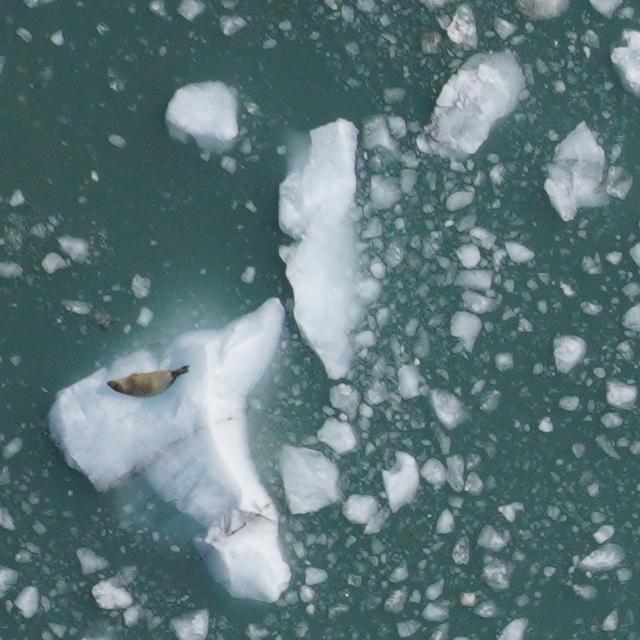seal: (102, 362, 196, 403)
